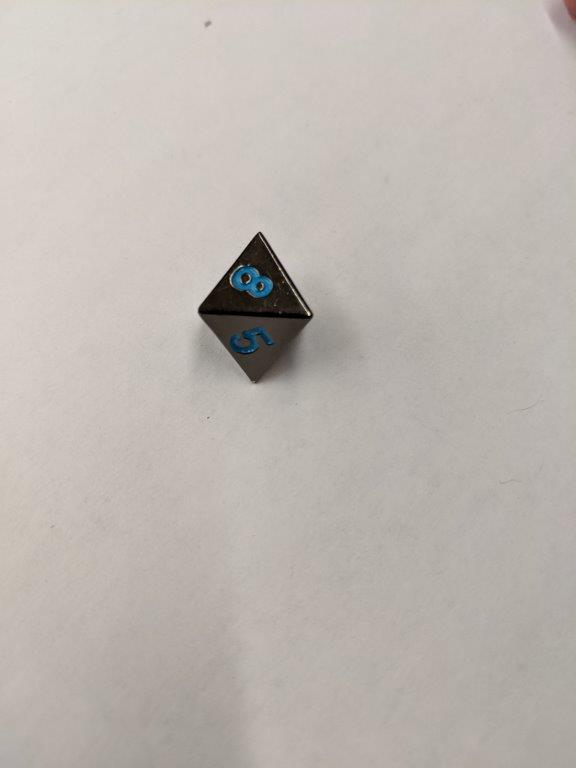d8-8: (199, 231, 312, 385)
